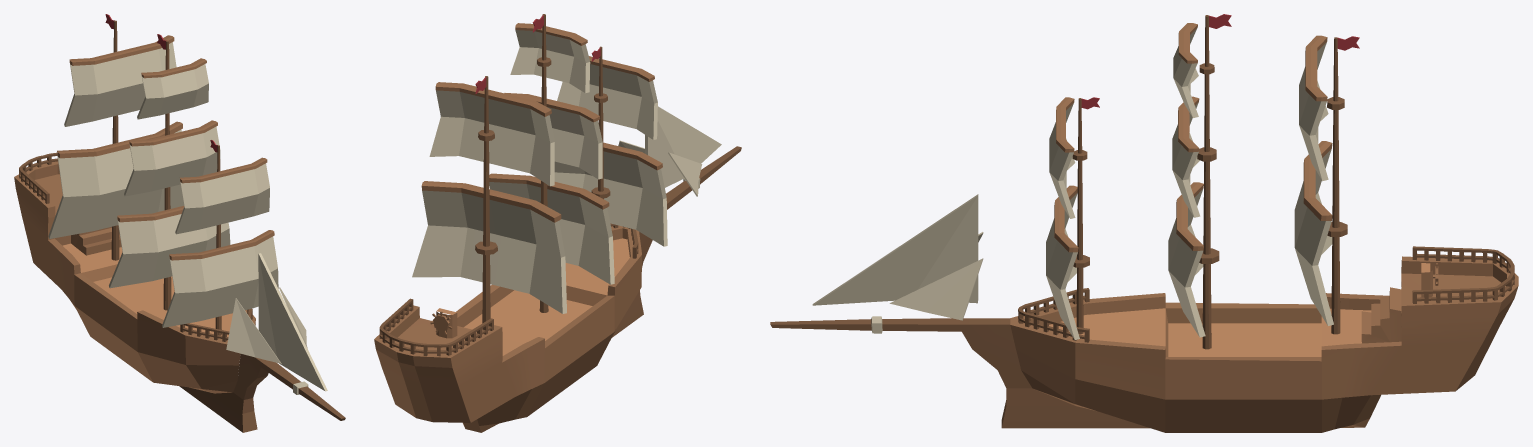
Rendered from sail_ship.glb.
The picture shows the model from 3 angles, left to right: view 1: azimuth 30°, elevation 25°; view 2: azimuth 150°, elevation 25°; view 3: azimuth 270°, elevation 25°; orthographic projection. The views are drawn at different scales.
Visible parts, largest first — view 1: BigShip, BackSail, MidleSail, Front Sail; view 2: BigShip, BackSail, MidleSail, Front Sail; view 3: BigShip, BackSail, MidleSail, Front Sail.
Boxes of the visible parts, box(x1,y1,x2,y2) form: BigShip: box(14, 14, 345, 432); BackSail: box(48, 35, 183, 238); MidleSail: box(109, 58, 230, 288); Front Sail: box(162, 157, 278, 327); BigShip: box(374, 14, 741, 432); BackSail: box(412, 82, 566, 313); MidleSail: box(489, 23, 614, 284); Front Sail: box(554, 56, 667, 246); BigShip: box(770, 14, 1518, 432); BackSail: box(1294, 35, 1333, 325); MidleSail: box(1168, 23, 1205, 337); Front Sail: box(1046, 97, 1079, 339).
Size of the model in its own units: 1.7 by 3.85 by 6.38.
